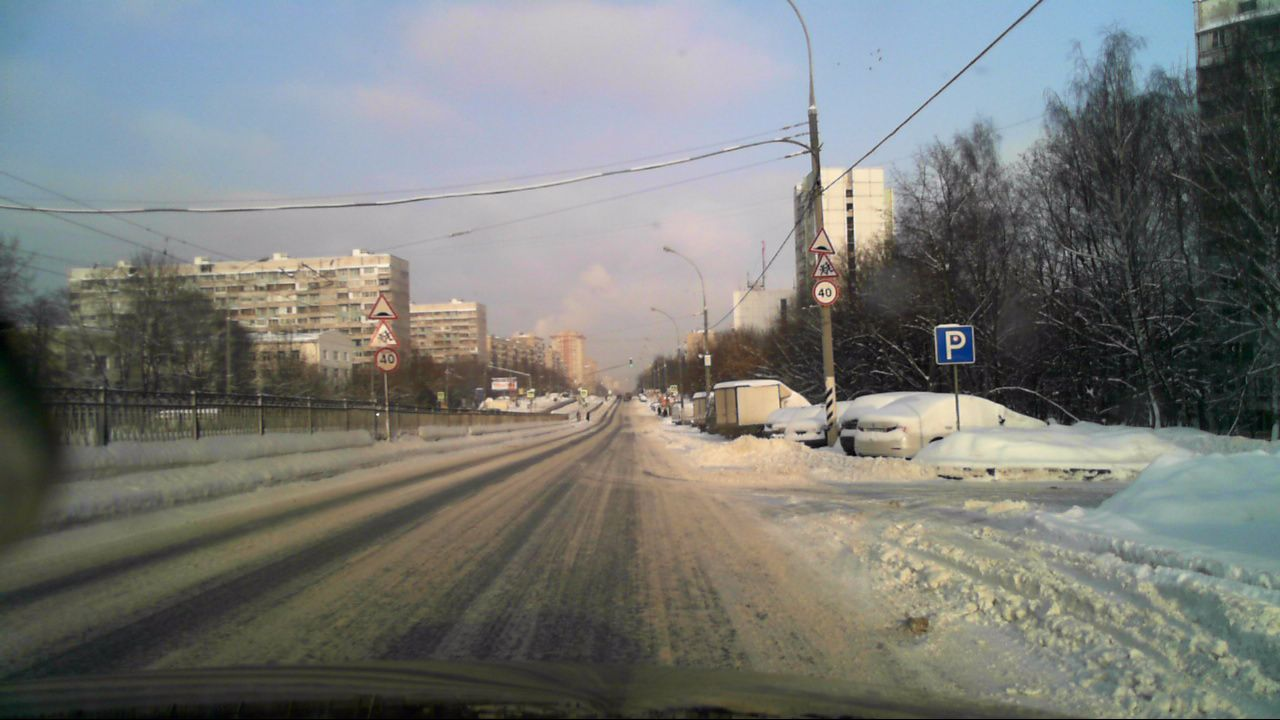speed_warning_40: (373, 346, 400, 374)
